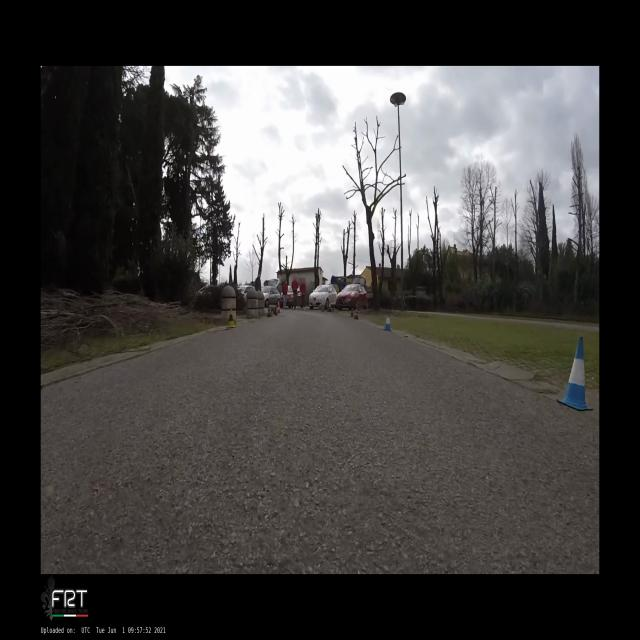blue_cone: (557, 337, 593, 411), (382, 315, 392, 332)
large_orange_cone: (355, 306, 358, 319), (277, 300, 280, 313)
unknown_cone: (267, 308, 272, 316), (350, 308, 354, 316), (274, 307, 277, 315)
yellow_cone: (226, 310, 236, 328)
